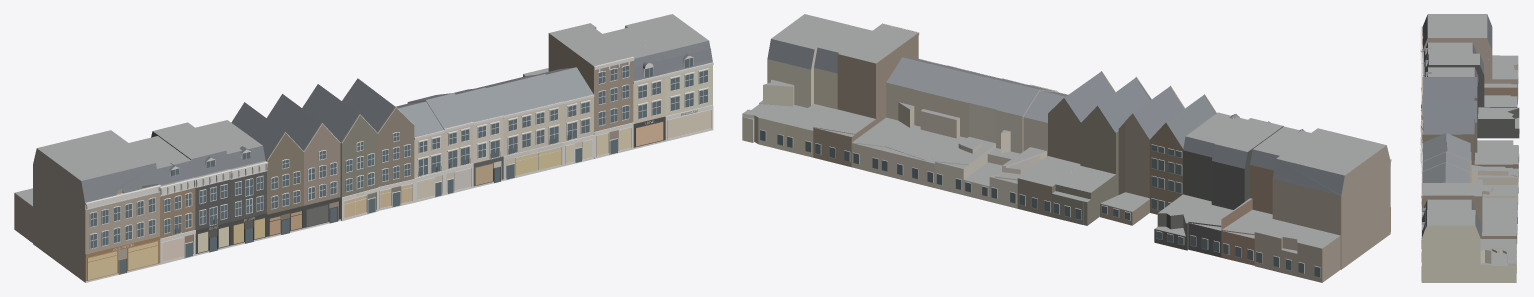
The model's file is chunk-face-hooft-67-99.glb.
3 renders of one model, left to right at view 1: azimuth 30°, elevation 25°; view 2: azimuth 150°, elevation 25°; view 3: azimuth 270°, elevation 25°, orthographic. The views are drawn at different scales.
Visible parts, largest first — view 1: face-hooft-67-99; view 2: face-hooft-67-99; view 3: face-hooft-67-99.
Part boxes in pixels (bbox=[...]): face-hooft-67-99: bbox=[14, 14, 713, 282]; face-hooft-67-99: bbox=[742, 14, 1391, 282]; face-hooft-67-99: bbox=[1420, 14, 1519, 282].
Bounding box in the file's own units: 111 × 17.27 × 22.82.
